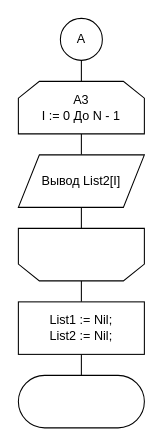
Some shapes in this 163 by 446 pixel diagram are drawn without their labels. The centre of each missing label's shape, as x and y in pixels:
"I А3" goes at point (80, 254).
"Конец" goes at point (80, 401).
